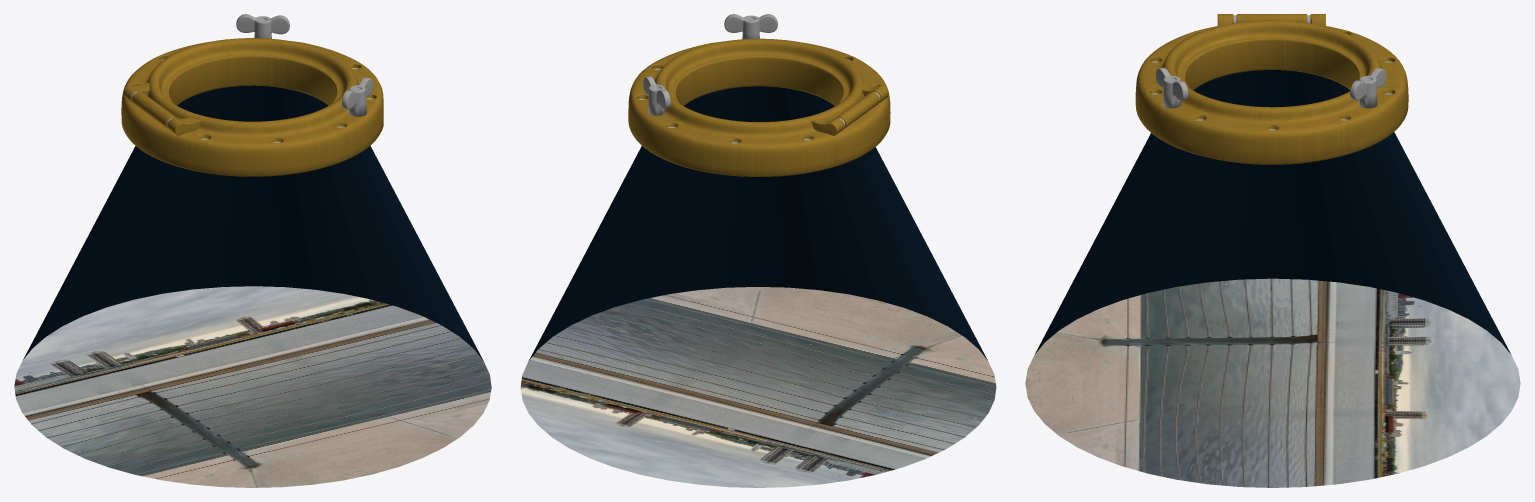
File: porthole.glb
3 renders of one model, left to right at view 1: azimuth 30°, elevation 25°; view 2: azimuth 150°, elevation 25°; view 3: azimuth 270°, elevation 25°, orthographic. The views are drawn at different scales.
Parts seen in each view (by area): view 1: contentPorthole, 15954_Portholes_v1; view 2: contentPorthole, 15954_Portholes_v1; view 3: contentPorthole, 15954_Portholes_v1.
Boxes of the visible parts, bbox=[...] form: contentPorthole: bbox=[14, 85, 491, 487]; 15954_Portholes_v1: bbox=[121, 14, 383, 176]; contentPorthole: bbox=[520, 86, 996, 487]; 15954_Portholes_v1: bbox=[628, 14, 890, 176]; contentPorthole: bbox=[1025, 70, 1520, 487]; 15954_Portholes_v1: bbox=[1135, 14, 1408, 164].
Size of the model in its own units: 11.65 by 8.73 by 11.65.
Materials: 4 (3 with a texture image).
